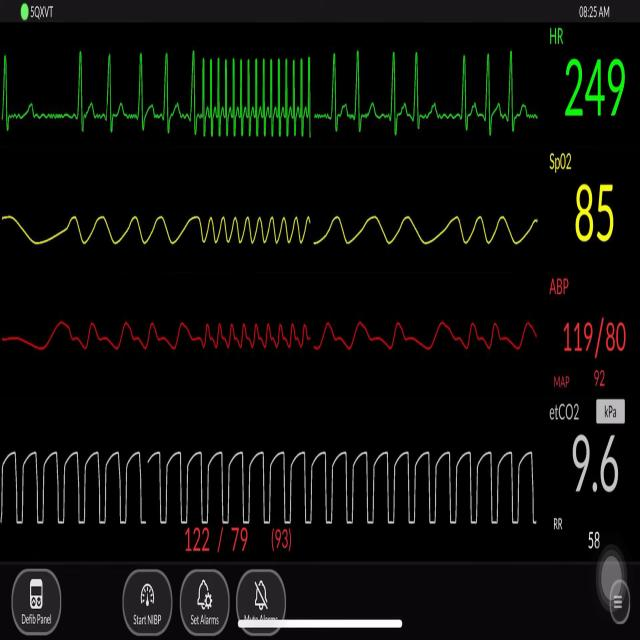danger: (184, 36, 318, 151)
